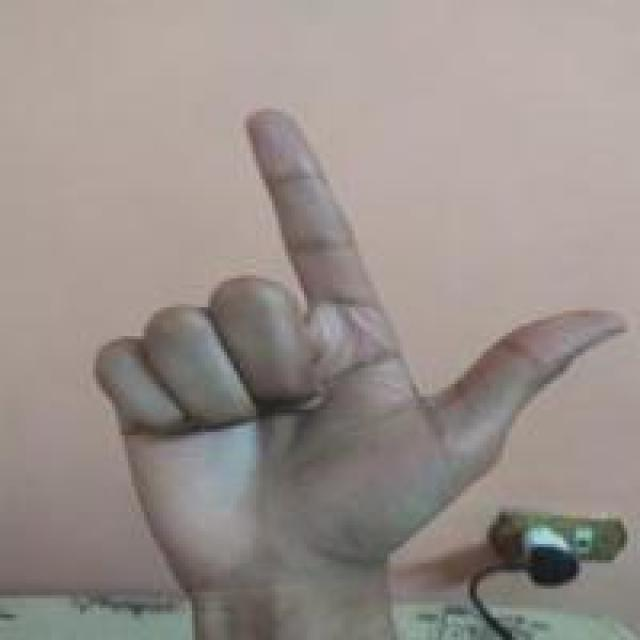L: (92, 99, 622, 576)
